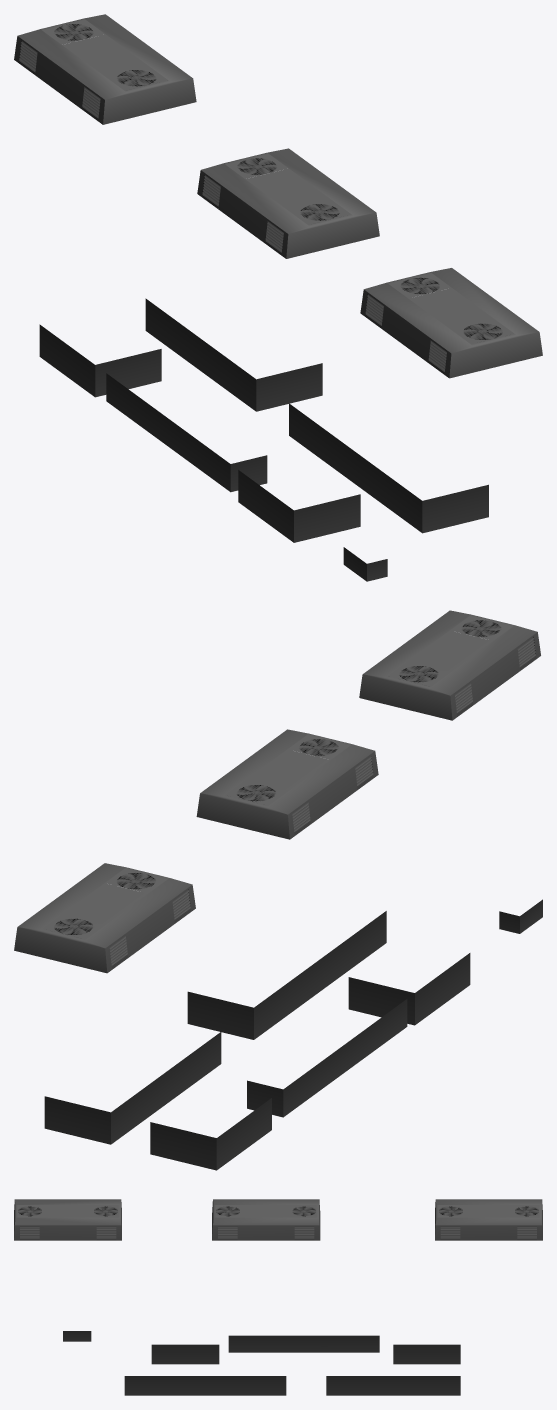
File: H7001_PANTA_MID_N.glb
3 renders of one model, top to bottom at view 1: azimuth 30°, elevation 25°; view 2: azimuth 150°, elevation 25°; view 3: azimuth 270°, elevation 25°, orthographic. The views are drawn at different scales.
Visible parts, largest first — view 1: FRAME_ROOT; view 2: FRAME_ROOT; view 3: FRAME_ROOT.
Part boxes in pixels (box(x1,y1,x2,y2)): FRAME_ROOT: box(14, 14, 542, 581); FRAME_ROOT: box(14, 610, 542, 1170); FRAME_ROOT: box(14, 1199, 542, 1395).
Size of the model in its own units: 5.53 by 8.04 by 24.16.
2 materials, 2 textured.
